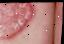plaque psoriasis: (0, 0, 36, 41), (57, 2, 64, 44)
